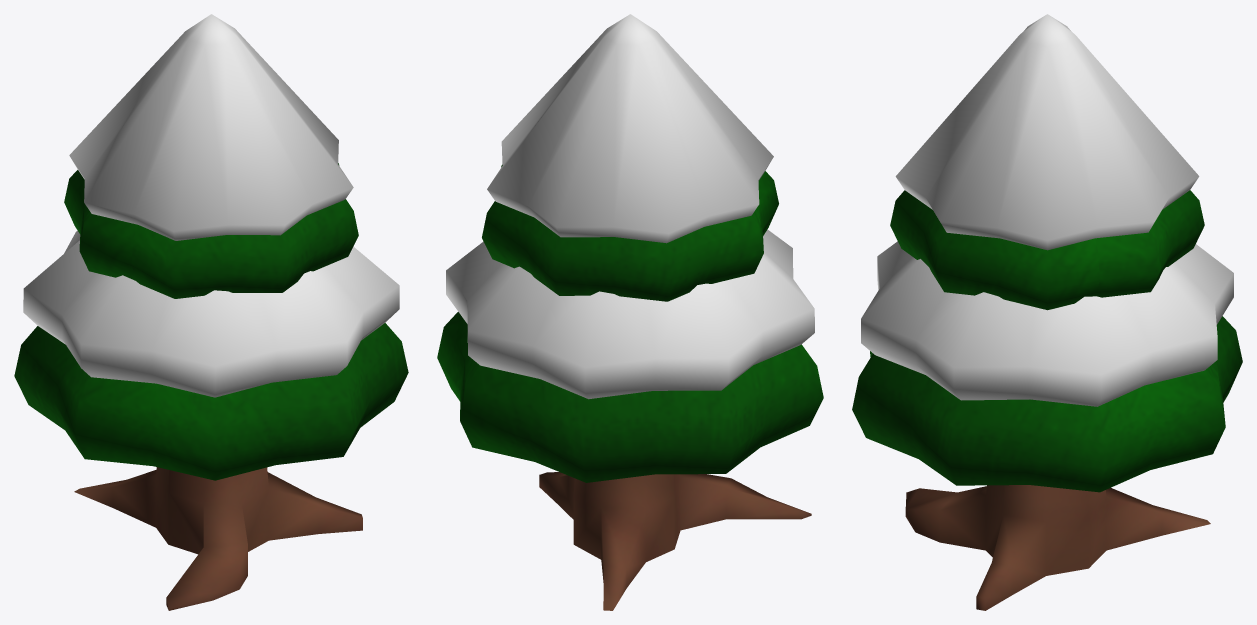
File: winter_fir tree.004.fbx
The picture shows the model from 3 angles, left to right: view 1: azimuth 30°, elevation 25°; view 2: azimuth 150°, elevation 25°; view 3: azimuth 270°, elevation 25°; orthographic projection. The views are drawn at different scales.
Visible parts, largest first — view 1: fir tree.004; view 2: fir tree.004; view 3: fir tree.004.
Boxes of the visible parts, <box> form: fir tree.004: <box>14,14,408,610</box>; fir tree.004: <box>437,14,823,610</box>; fir tree.004: <box>852,14,1242,610</box>.
Bounding box in the file's own units: 5.57 × 8.43 × 5.57.
